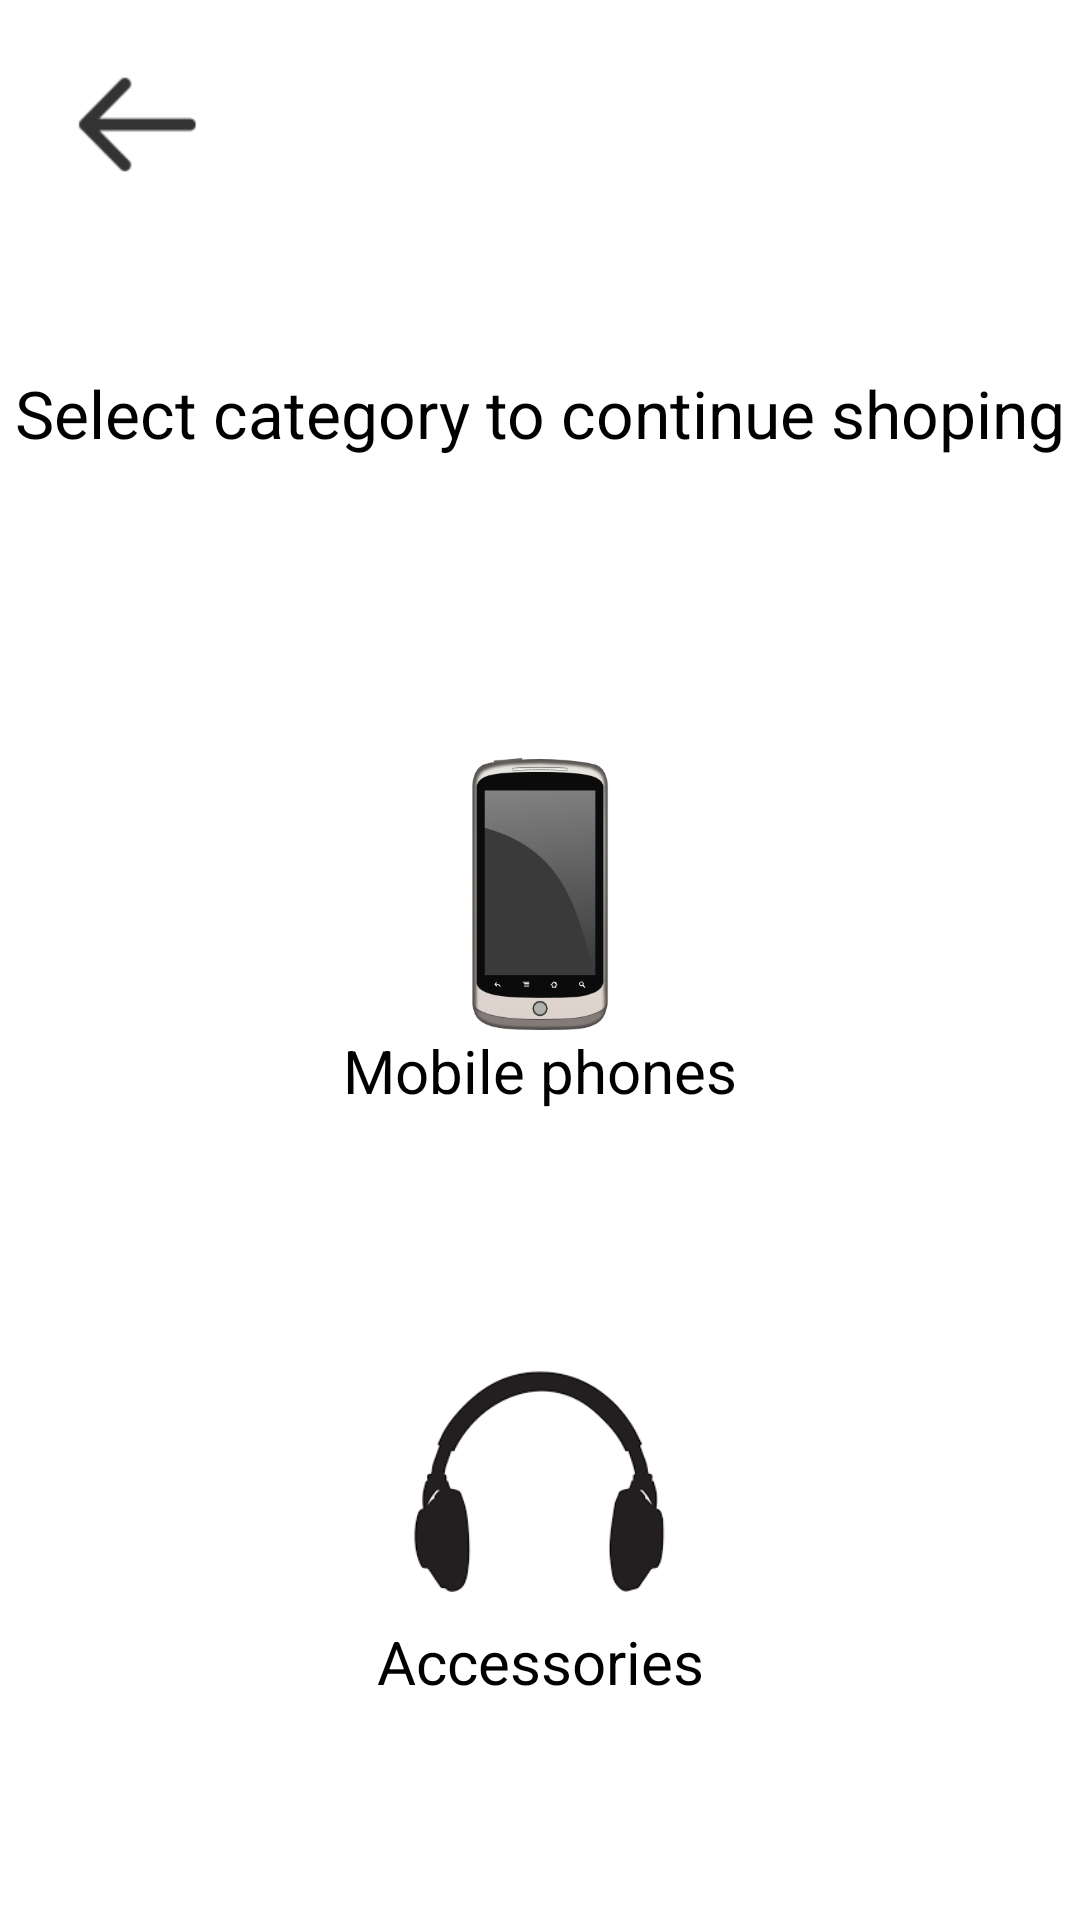

Screen size 1080×1920. Icon name, then its center in pixels as point (x, y):
back arrow: point (137, 124)
